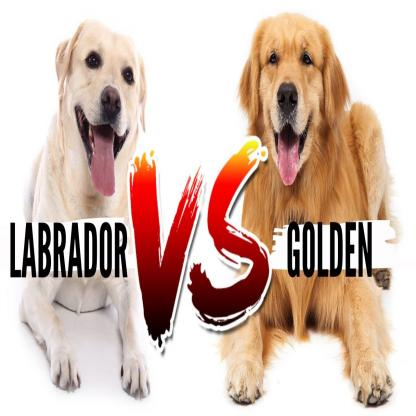Labarador Retriever: (219, 8, 396, 408), (19, 19, 154, 399)
